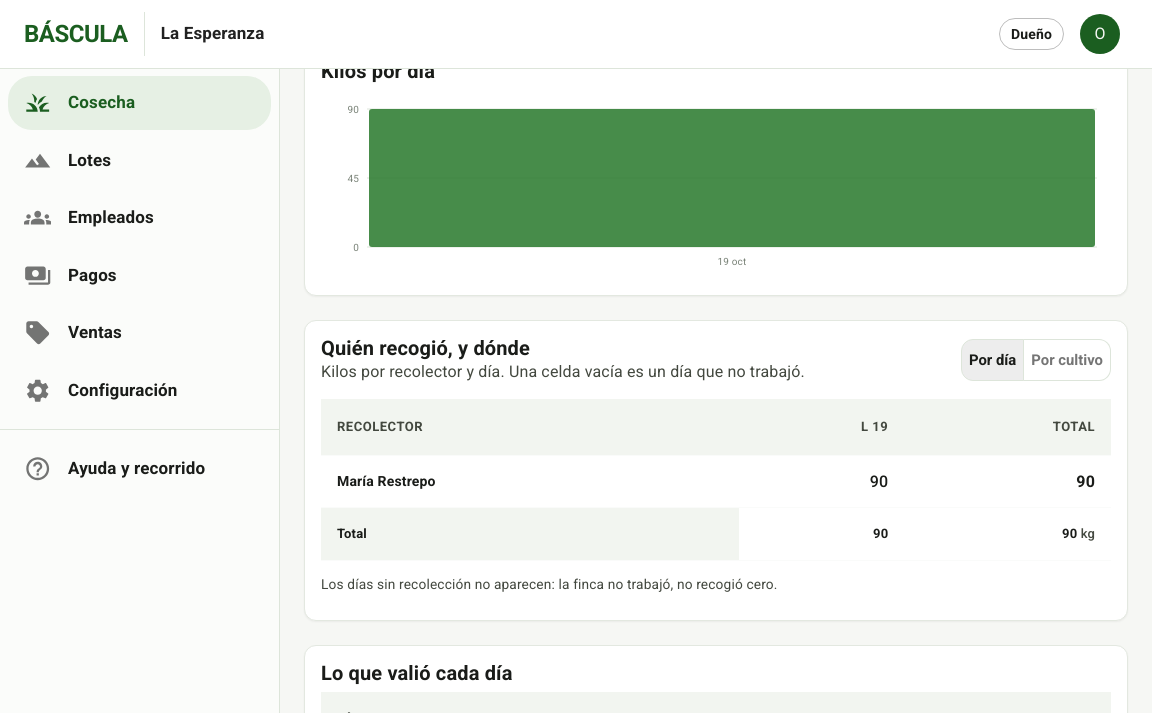
Test: the unattributed column is shown and explained, never hidden › keeps the column so the totals still cross-foot, and says what it is
The image size is (1152, 713).
(page scrolled)
Expected: the heading "Quién recogió, y dónde" is shown, [321,336,530,360]
Click the button "Por cultivo" at x=1067, y=360, box [1023,339,1111,381]
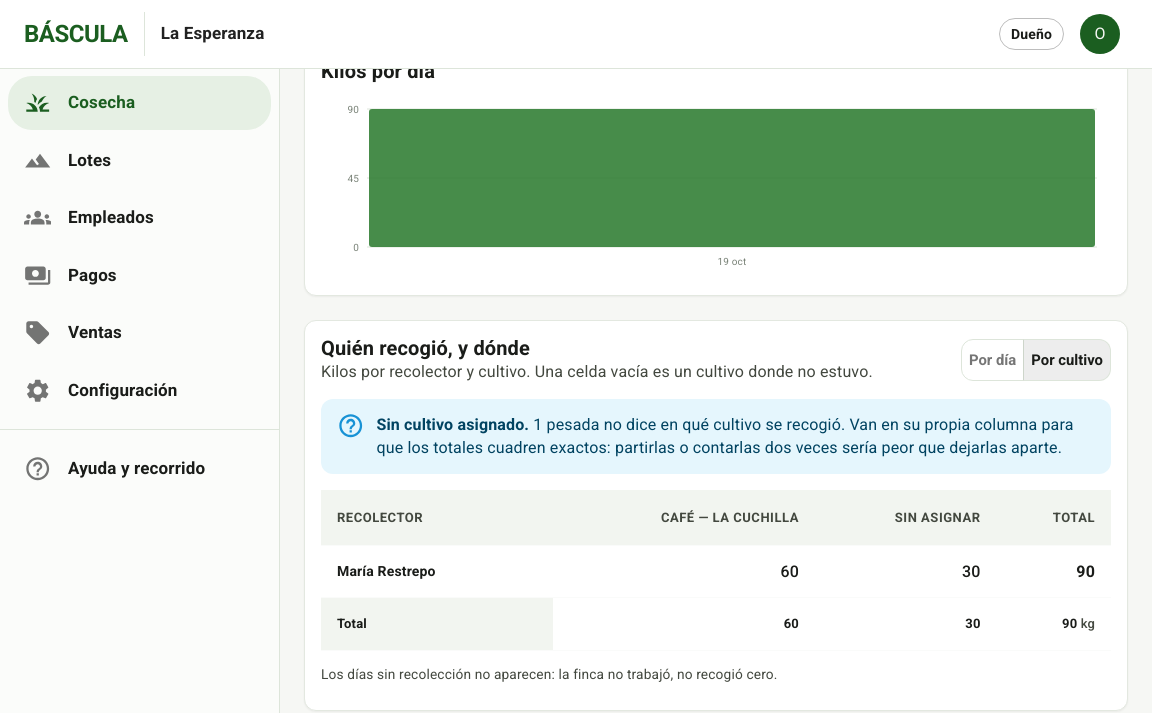
Expected: the text "Sin cultivo asignado." is shown, [376,415,529,434]
Expected: the text "los totales cuadren" is shown, [376,415,1074,458]
Expected: the text "Sin asignar" is shown, [895,510,980,525]
